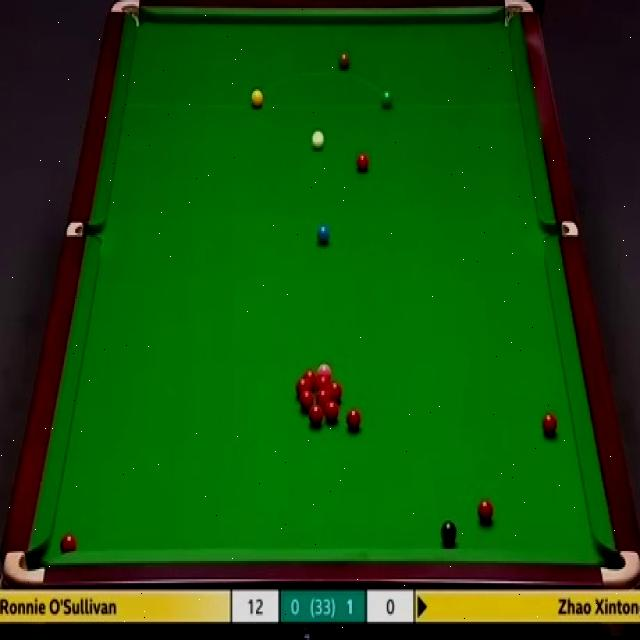black-ball: (440, 520, 457, 545)
blue-ball: (316, 224, 330, 247)
brown-ball: (339, 53, 351, 67)
green-ball: (380, 89, 394, 108)
pink-ball: (318, 364, 332, 374)
red-ball: (478, 499, 493, 522), (324, 400, 339, 422), (59, 534, 76, 553), (543, 413, 557, 434), (347, 409, 361, 430), (299, 391, 313, 412), (308, 405, 322, 425), (331, 382, 344, 402), (356, 152, 368, 173), (303, 368, 317, 386), (294, 378, 309, 392), (318, 373, 330, 388), (316, 391, 331, 402)
white-ball: (311, 129, 326, 150)
yellow-ball: (250, 90, 263, 109)
